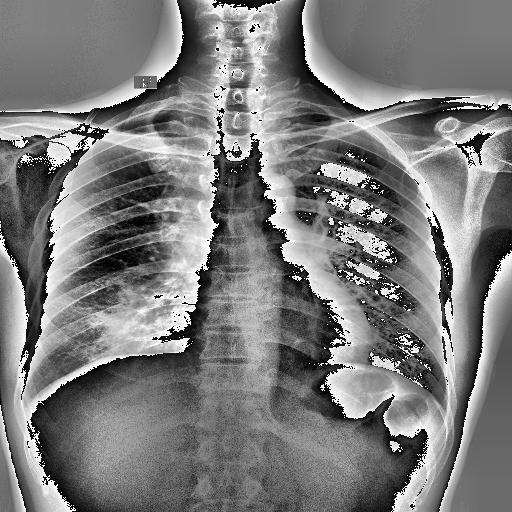10- Pleural effusion: (18, 391, 36, 419)
11- Pleural thickening: (122, 112, 196, 120), (18, 391, 36, 419)
4- Consolidation: (119, 250, 196, 322)
6- Infiltration: (90, 204, 210, 348), (98, 257, 206, 353), (104, 272, 196, 356)
